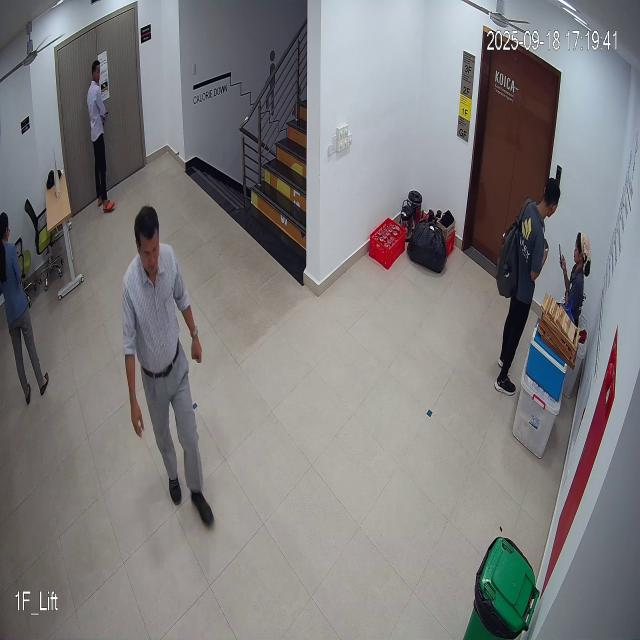face: (133, 200, 168, 280)
